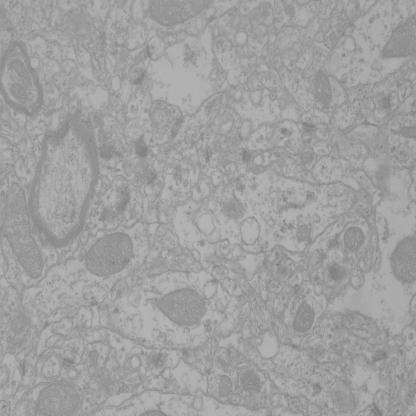mitochondria: (0, 180, 44, 278), (83, 231, 134, 277), (155, 286, 208, 327), (376, 11, 416, 59), (148, 0, 216, 27), (36, 381, 80, 416), (390, 234, 416, 287), (290, 300, 316, 334), (313, 69, 333, 107), (12, 58, 32, 90), (239, 367, 261, 394), (344, 225, 366, 251), (217, 374, 235, 398), (11, 83, 28, 105)
